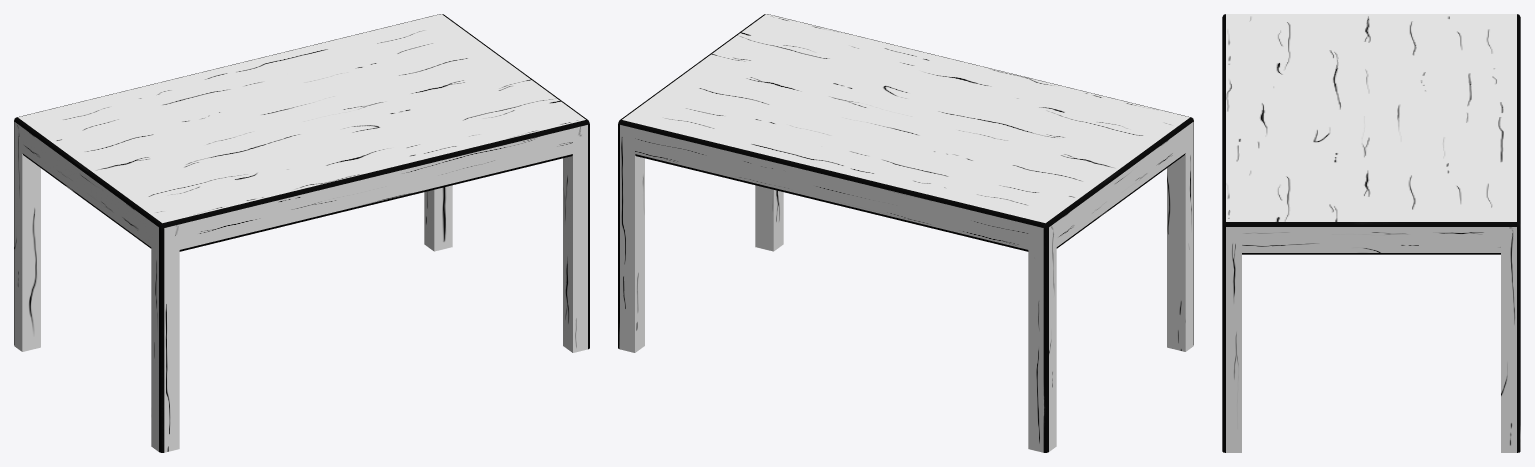
The model's file is Table.fbx.
3 views of the same model, side by side, from view 1: azimuth 30°, elevation 25°; view 2: azimuth 150°, elevation 25°; view 3: azimuth 270°, elevation 25° (orthographic).
Visible parts, largest first — view 1: Mesa; view 2: Mesa; view 3: Mesa.
Boxes of the visible parts, <box> form: Mesa: <box>14,14,589,452</box>; Mesa: <box>618,14,1193,452</box>; Mesa: <box>1222,14,1520,452</box>.
Size of the model in its own units: 5.18 by 2.62 by 3.09.
